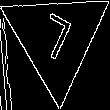L_SW: (34, 9, 79, 69)
